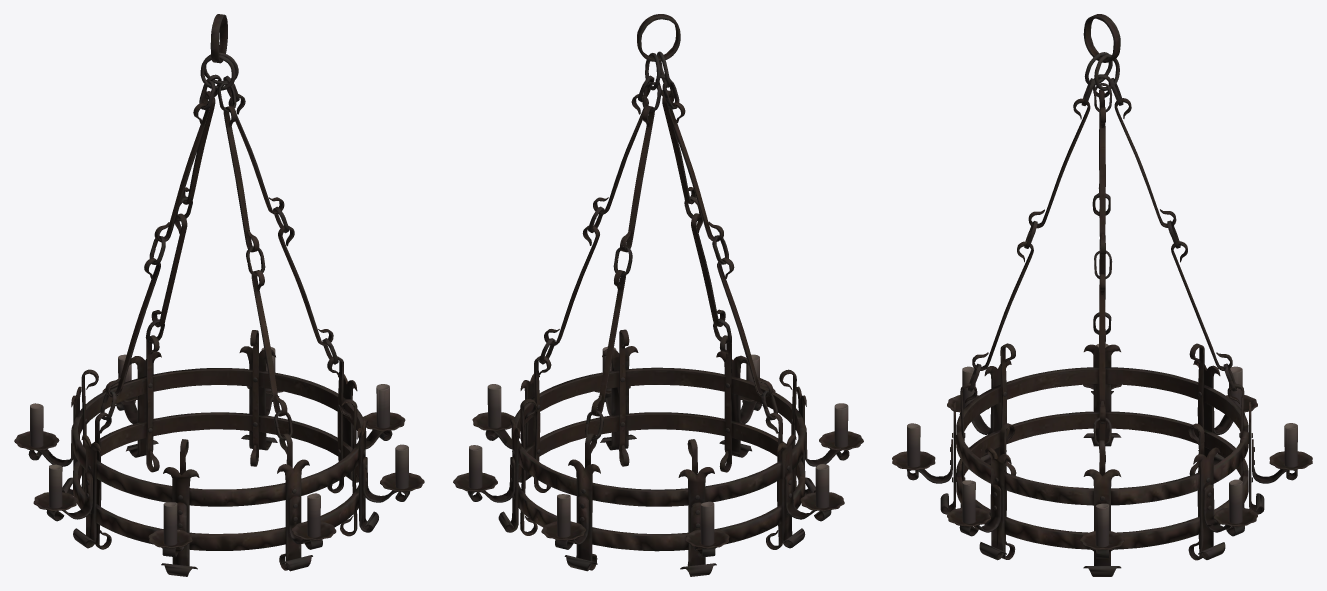
Rendered from chandelier.glb.
3 views of the same model, side by side, from view 1: azimuth 30°, elevation 25°; view 2: azimuth 150°, elevation 25°; view 3: azimuth 270°, elevation 25° (orthographic).
Visible parts, largest first — view 1: Object_2; view 2: Object_2; view 3: Object_2.
Part boxes in pixels (bbox=[...]): Object_2: bbox=[14, 14, 424, 576]; Object_2: bbox=[453, 14, 863, 576]; Object_2: bbox=[892, 14, 1312, 576].
Size of the model in its own units: 1265 by 1669 by 1265.
Materials: 1 (1 with a texture image).
